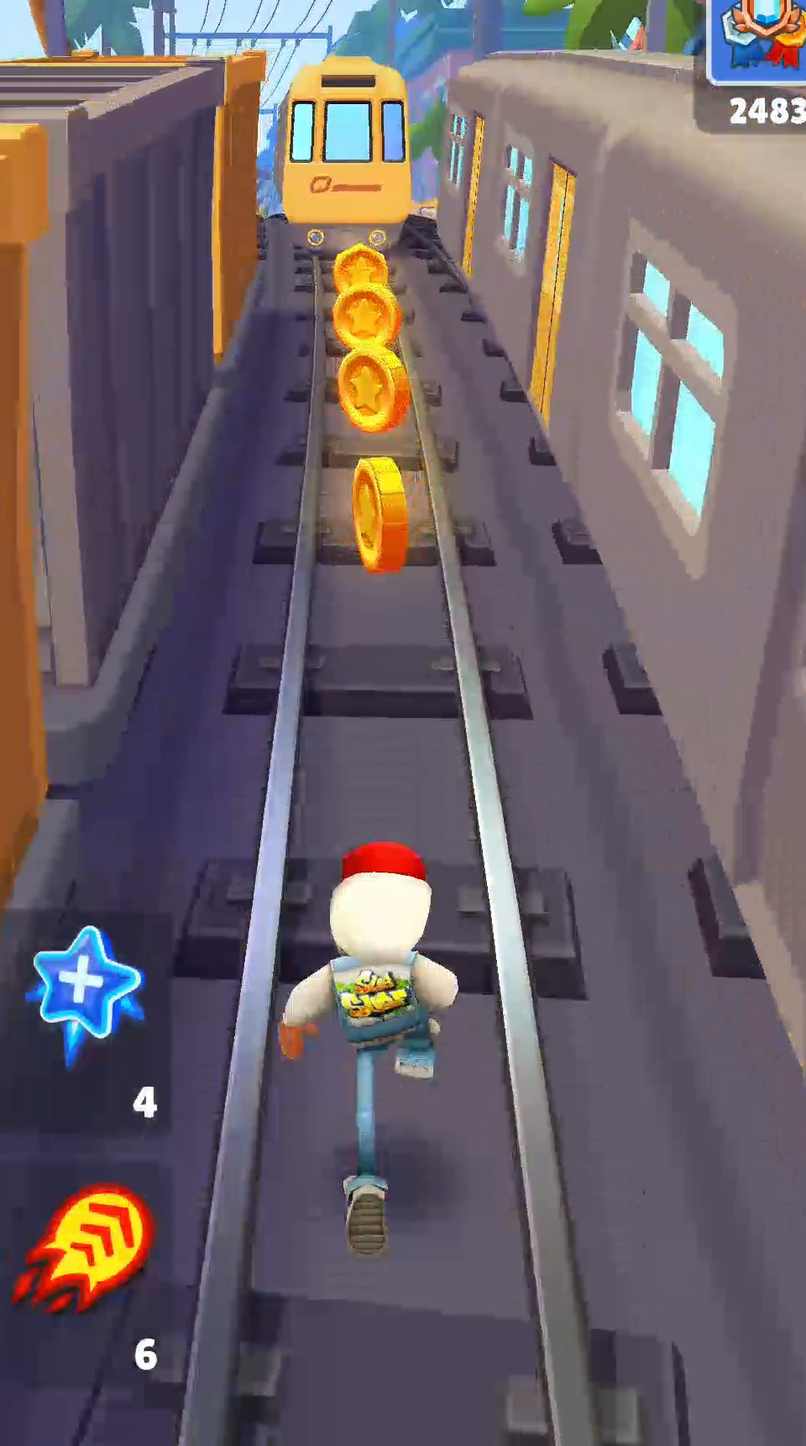train: (437, 50, 805, 1056), (4, 57, 224, 693), (275, 56, 411, 254)
